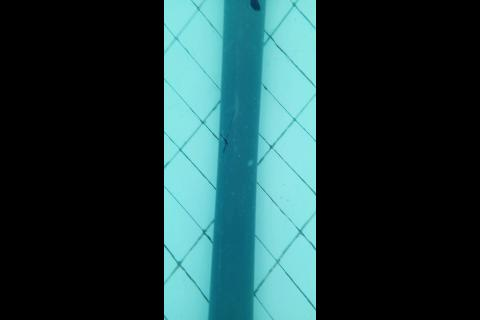kebocoran: (249, 0, 261, 14)
keretakan: (220, 119, 230, 159)
